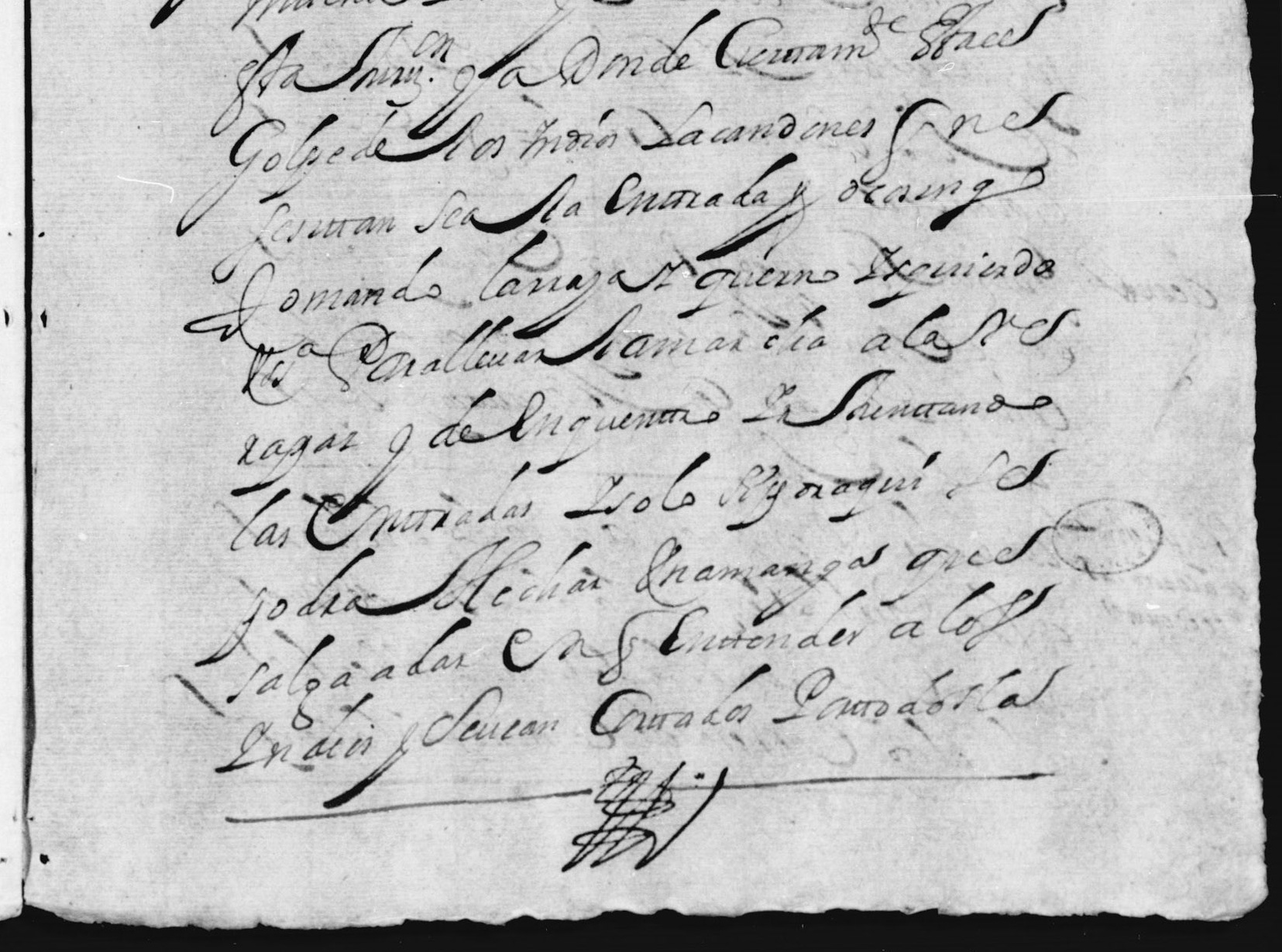lacandon: (641, 101, 875, 150)
